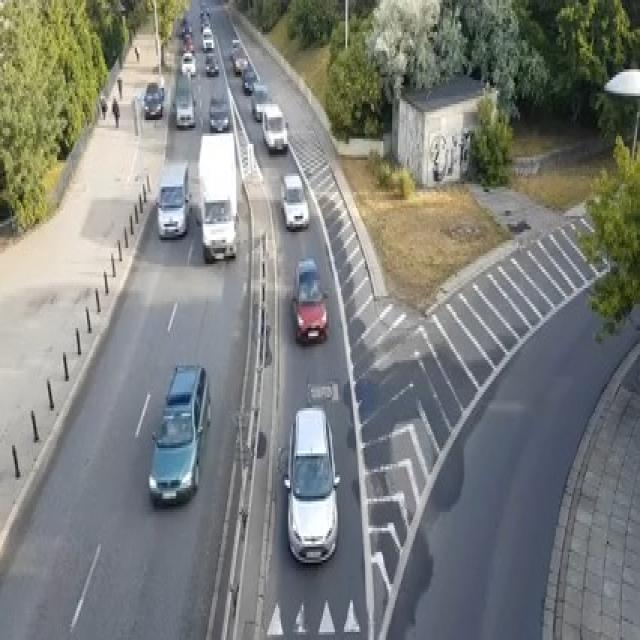bus: (195, 131, 238, 261)
car: (282, 405, 340, 563), (147, 362, 210, 507), (290, 256, 327, 344), (155, 160, 191, 237), (280, 171, 310, 229), (172, 72, 196, 128), (262, 101, 288, 152), (209, 90, 230, 130), (143, 80, 162, 117), (251, 83, 269, 120), (242, 67, 258, 93), (180, 50, 196, 74), (204, 53, 220, 75), (202, 27, 214, 50), (183, 35, 194, 53), (99, 94, 107, 118)
